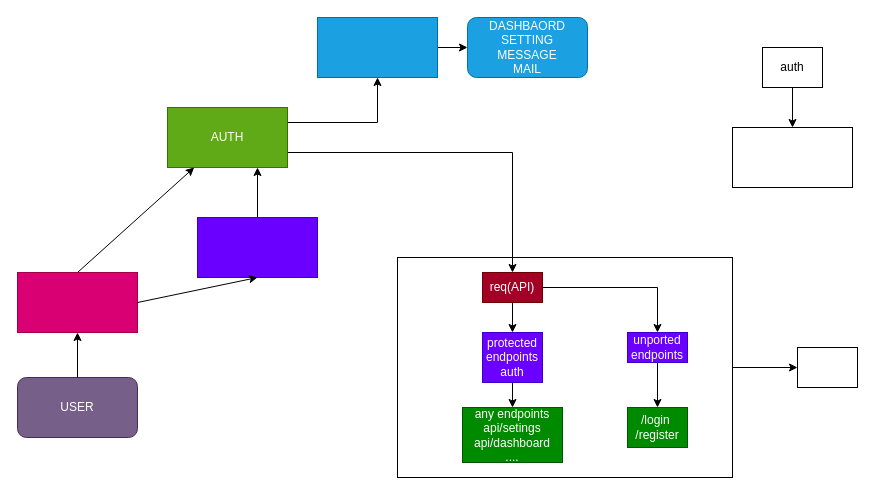
The diagram is 875 pixels wide and 495 high, and some of its shapes have lost their labels. Each missing label, with the centre of its shape:
ANY PROTECTED WEB PAGE: point (377, 47)
DB: point (827, 367)
express: point (792, 157)
FRONT: point (77, 302)
UNPROTED WEB PAGE LOGIN / REGISTER: point (257, 247)
